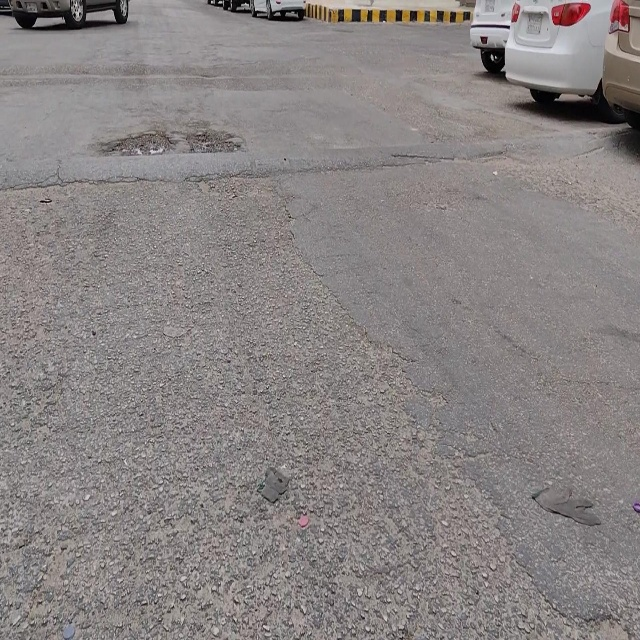pothole: (109, 128, 174, 155), (188, 128, 240, 151)
